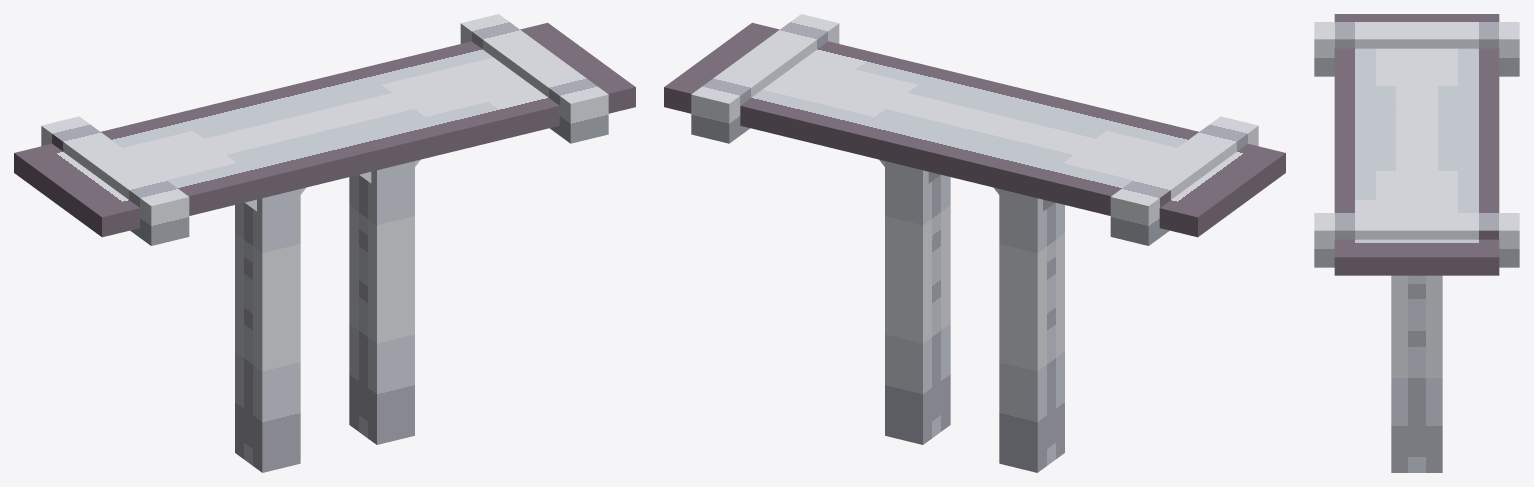
The model's file is overhead_truss_double_hanger_double_top.obj.
The picture shows the model from 3 angles, left to right: view 1: azimuth 30°, elevation 25°; view 2: azimuth 150°, elevation 25°; view 3: azimuth 270°, elevation 25°; orthographic projection. The views are drawn at different scales.
Visible parts, largest first — view 1: hanger_base; view 2: hanger_base; view 3: hanger_base.
Boxes of the visible parts, left/top/right/bottom form: hanger_base: left=14, top=14, right=635, bottom=472; hanger_base: left=664, top=14, right=1285, bottom=472; hanger_base: left=1314, top=14, right=1519, bottom=472.
Size of the model in its own units: 1.75 by 1.05 by 0.625.
